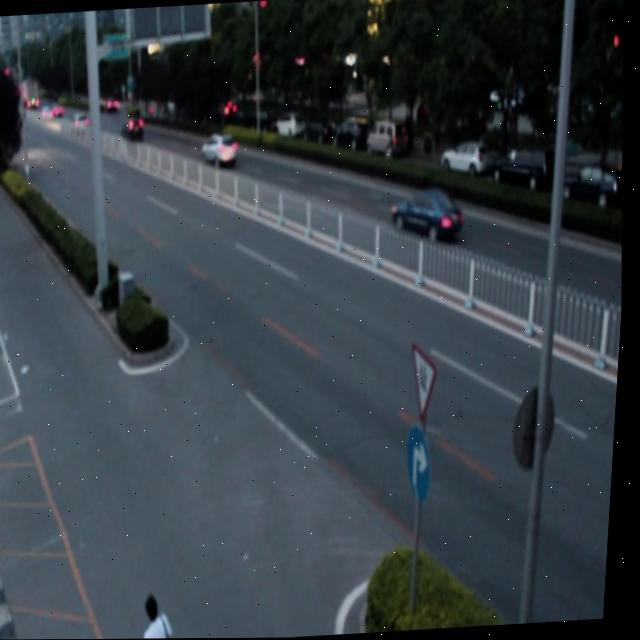car: (390, 185, 467, 243)
